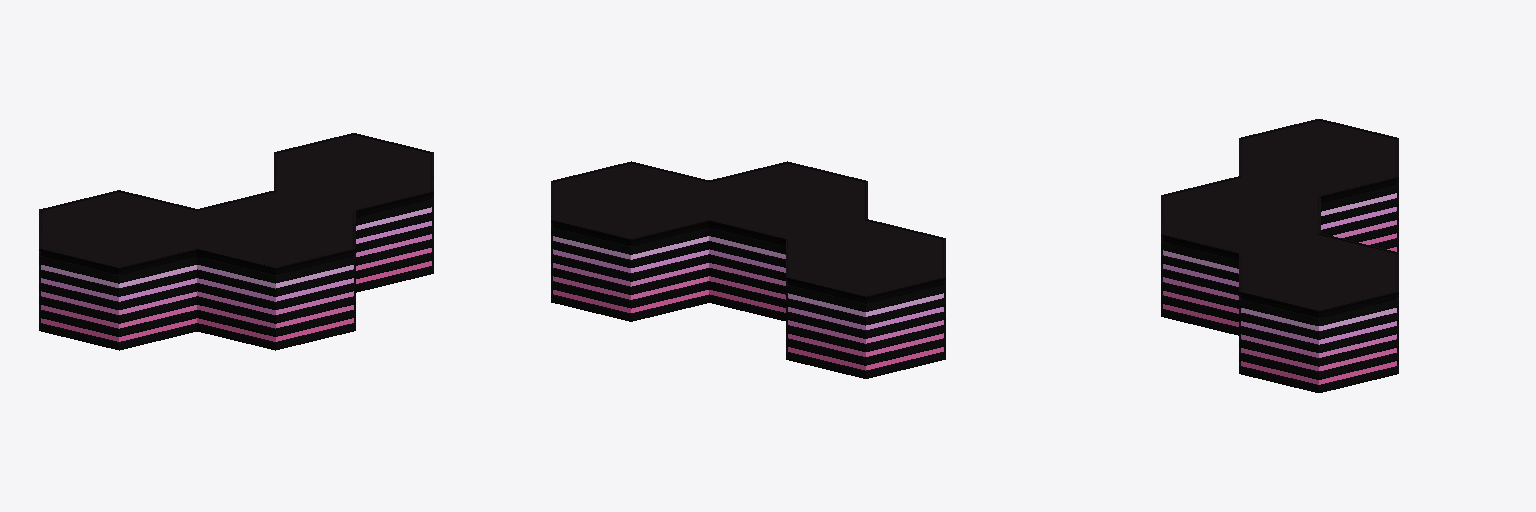
The picture shows the model from 3 angles: view 1: azimuth 30°, elevation 25°; view 2: azimuth 150°, elevation 25°; view 3: azimuth 270°, elevation 25°; orthographic projection.
Bounding box in the file's own units: 3.55 × 0.7088 × 1.85.
Materials: 1 (1 with a texture image).